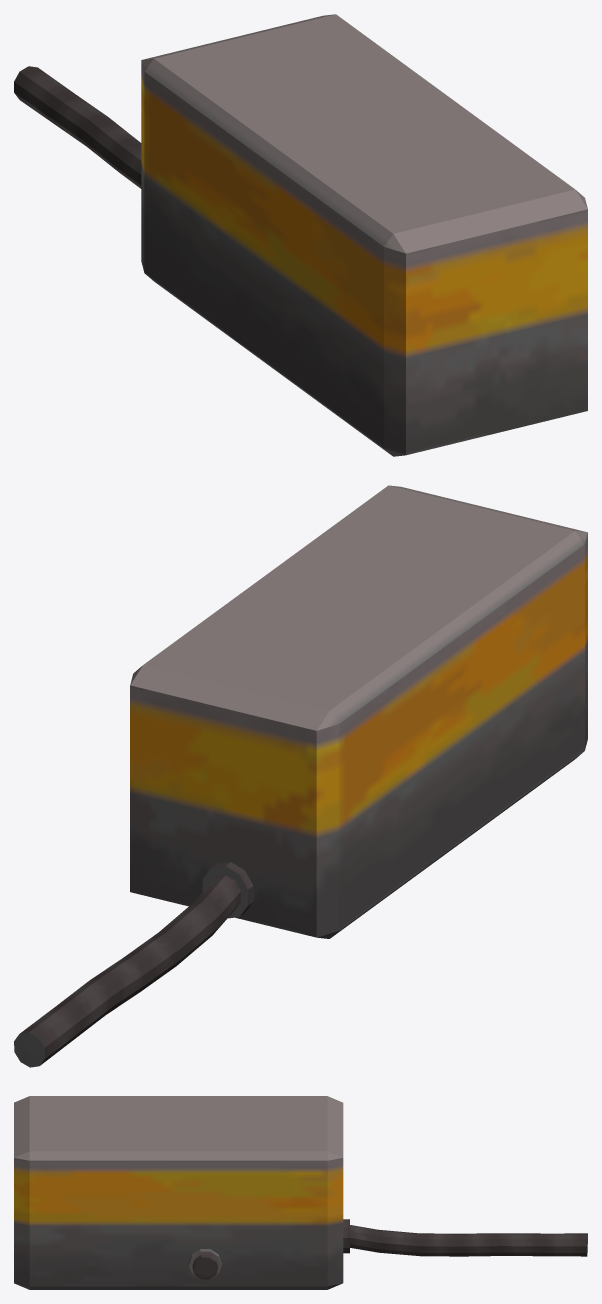
File: Generator.fbx
3 renders of one model, top to bottom at view 1: azimuth 30°, elevation 25°; view 2: azimuth 150°, elevation 25°; view 3: azimuth 270°, elevation 25°, orthographic. The views are drawn at different scales.
Parts seen in each view (by area): view 1: Generator; view 2: Generator; view 3: Generator.
Part boxes in pixels (bbox=[...]): Generator: bbox=[14, 14, 587, 456]; Generator: bbox=[14, 485, 587, 1067]; Generator: bbox=[14, 1096, 587, 1289].
Bounding box in the file's own units: 540 × 526 × 1974.
